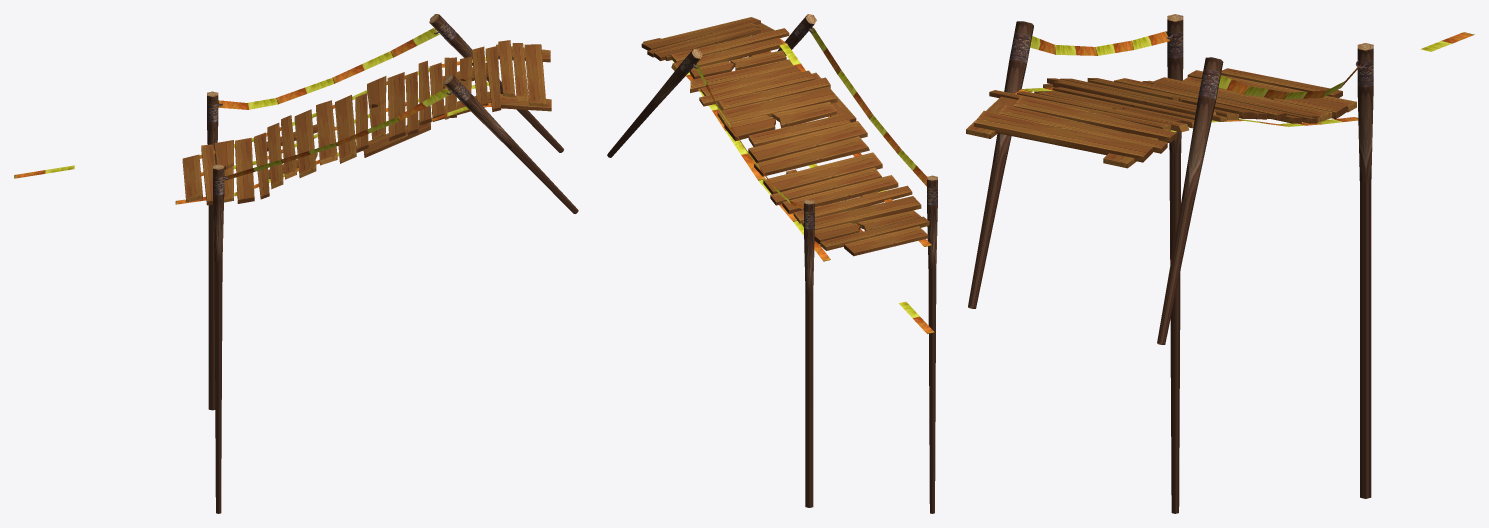
File: qiao_002.FBX
3 renders of one model, left to right at view 1: azimuth 30°, elevation 25°; view 2: azimuth 150°, elevation 25°; view 3: azimuth 270°, elevation 25°, orthographic. The views are drawn at different scales.
Parts seen in each view (by area): view 1: qiao_002, tiesuo_002; view 2: qiao_002, tiesuo_002; view 3: qiao_002, tiesuo_002.
Boxes of the visible parts, bbox=[...] form: qiao_002: bbox=[182, 14, 578, 513]; tiesuo_002: bbox=[14, 28, 491, 204]; qiao_002: bbox=[607, 14, 937, 513]; tiesuo_002: bbox=[673, 27, 934, 333]; qiao_002: bbox=[966, 14, 1373, 513]; tiesuo_002: bbox=[1015, 31, 1474, 131].
Size of the model in its own units: 2075 by 1931 by 1441.
2 materials, 2 textured.
